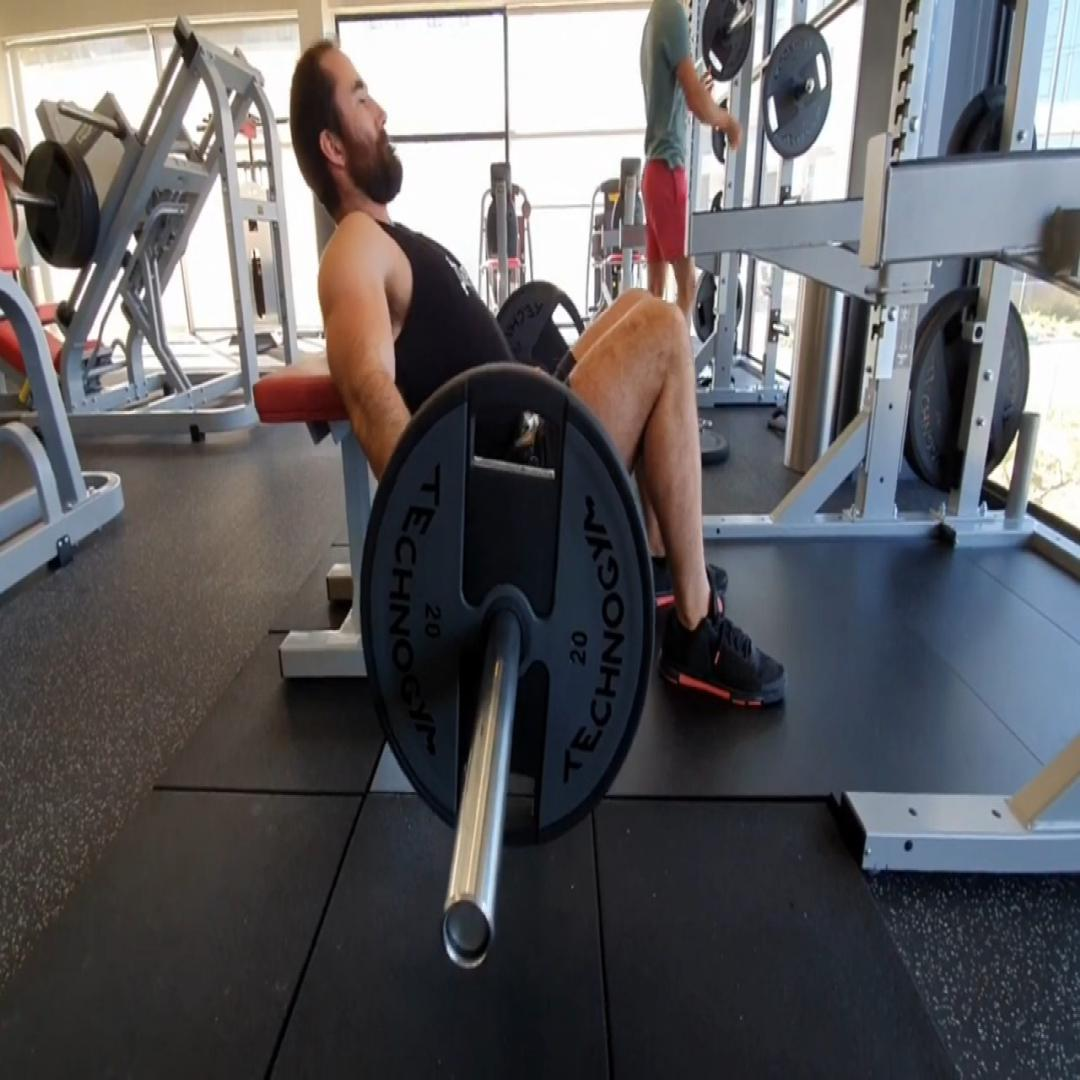Bar: (440, 887, 498, 974)
Barbell: (358, 360, 656, 854)
